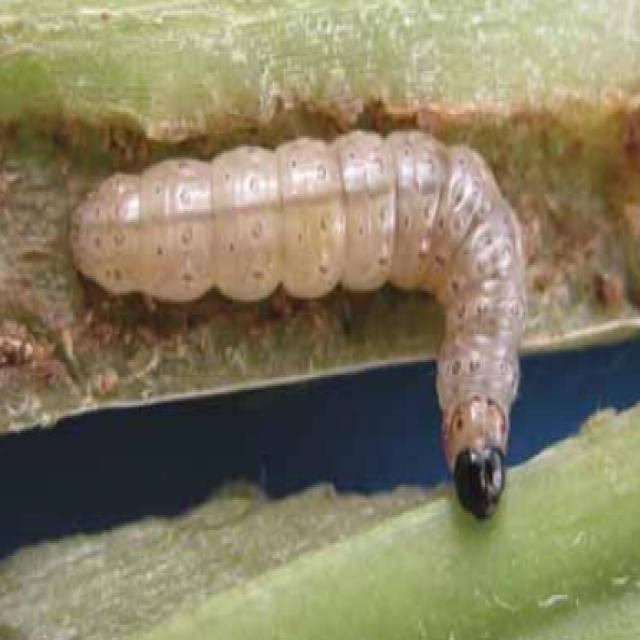cornborer-Larva-: (42, 127, 541, 537)
